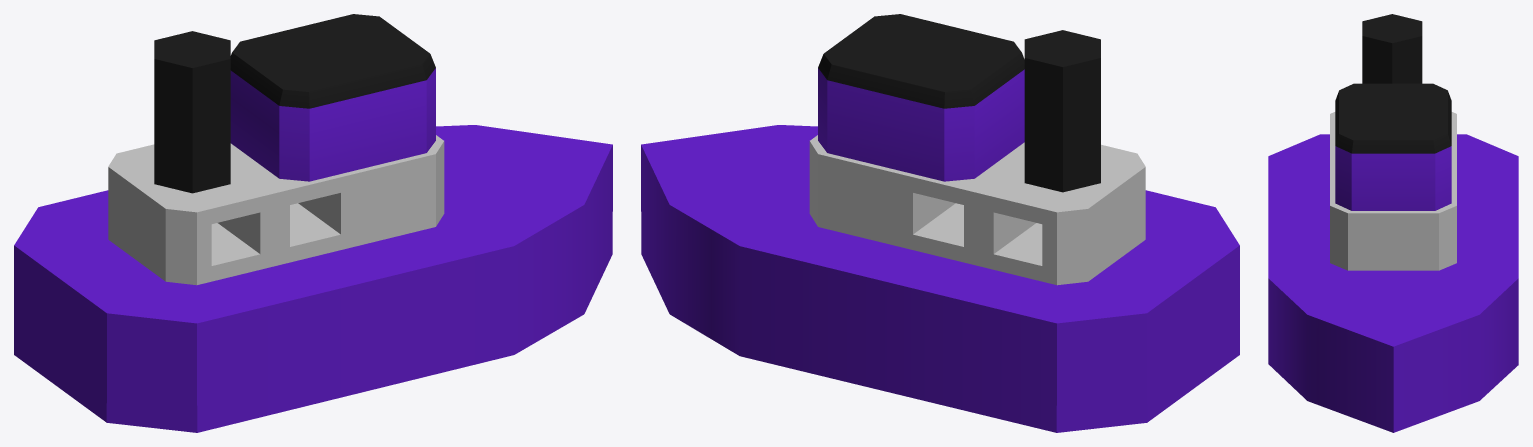
The model's file is Boat_F.FBX.
The picture shows the model from 3 angles, left to right: view 1: azimuth 30°, elevation 25°; view 2: azimuth 150°, elevation 25°; view 3: azimuth 270°, elevation 25°; orthographic projection. The views are drawn at different scales.
Visible parts, largest first — view 1: Boat; view 2: Boat; view 3: Boat.
Part boxes in pixels (box(x1,y1,x2,y2)): Boat: box(14, 14, 612, 432); Boat: box(641, 14, 1239, 432); Boat: box(1268, 14, 1518, 432).
Size of the model in its own units: 119 by 63.46 by 59.25.
